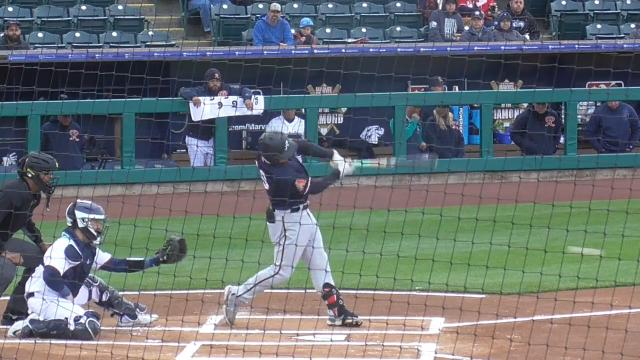ball: (566, 247, 606, 259)
bat: (352, 156, 438, 170)
